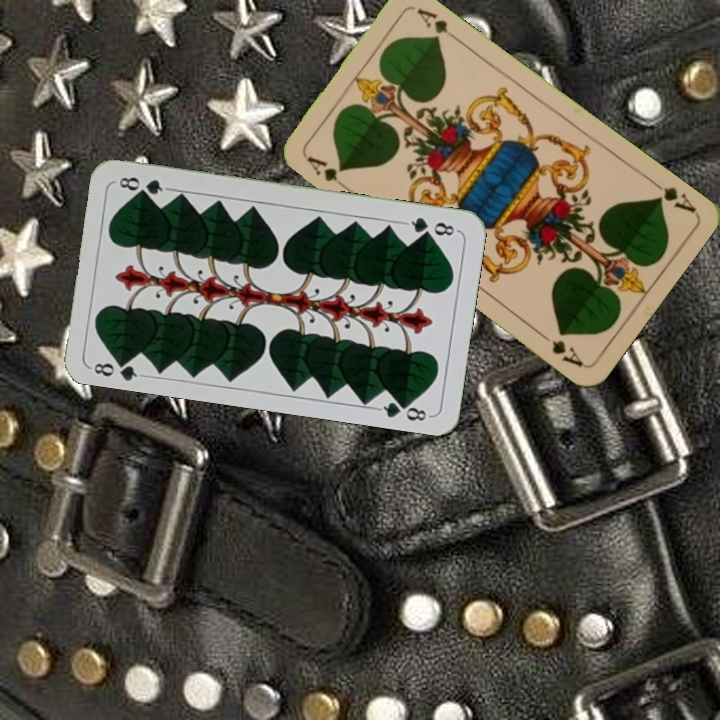G8: (87, 352, 146, 383), (401, 213, 460, 239)
GA: (645, 174, 699, 216), (303, 152, 353, 194)
